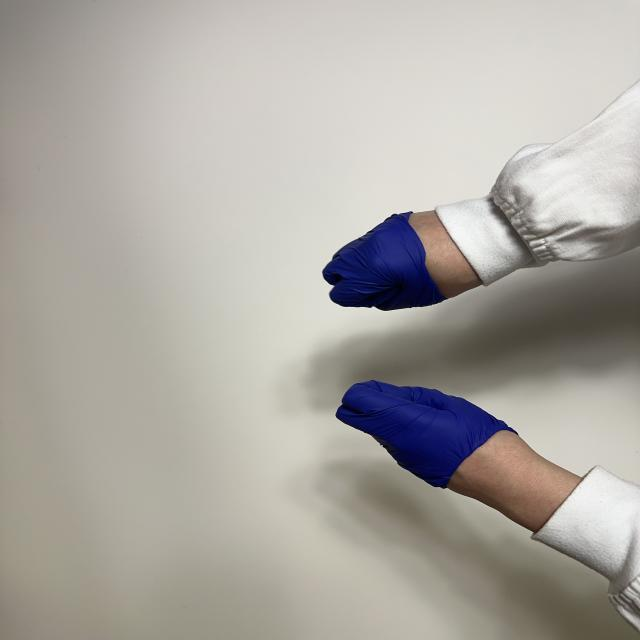glove_not_fitted: (336, 377, 579, 530), (321, 207, 490, 314)
